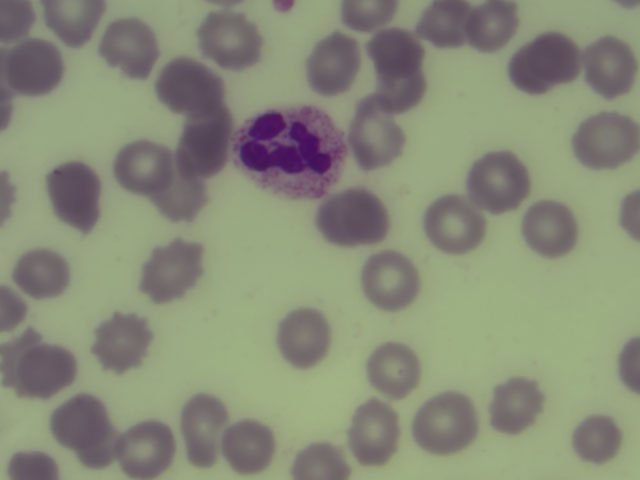RBC: (567, 112, 640, 165), (368, 32, 427, 92), (277, 308, 332, 365), (566, 407, 621, 464), (487, 377, 542, 434), (417, 394, 472, 451), (366, 339, 421, 396), (347, 401, 402, 458), (363, 252, 418, 309), (425, 194, 480, 251), (522, 198, 577, 255), (473, 153, 528, 210), (581, 37, 636, 94), (513, 36, 568, 93), (326, 187, 381, 244), (350, 105, 405, 162), (305, 35, 360, 92), (221, 415, 276, 472), (175, 398, 230, 455), (115, 417, 170, 474), (53, 393, 108, 450), (95, 313, 150, 370), (141, 240, 196, 297), (23, 344, 78, 401), (14, 244, 69, 301), (47, 168, 102, 225), (150, 169, 205, 226), (180, 113, 235, 170), (159, 54, 214, 111), (203, 10, 258, 67), (102, 18, 157, 75), (6, 36, 61, 93), (115, 138, 172, 188), (417, 1, 473, 51), (466, 1, 515, 48), (40, 1, 103, 37), (291, 441, 349, 480), (1, 330, 38, 389), (611, 188, 640, 254), (610, 336, 640, 398), (339, 1, 402, 25), (1, 1, 36, 34)
WBC: (237, 101, 347, 201)
